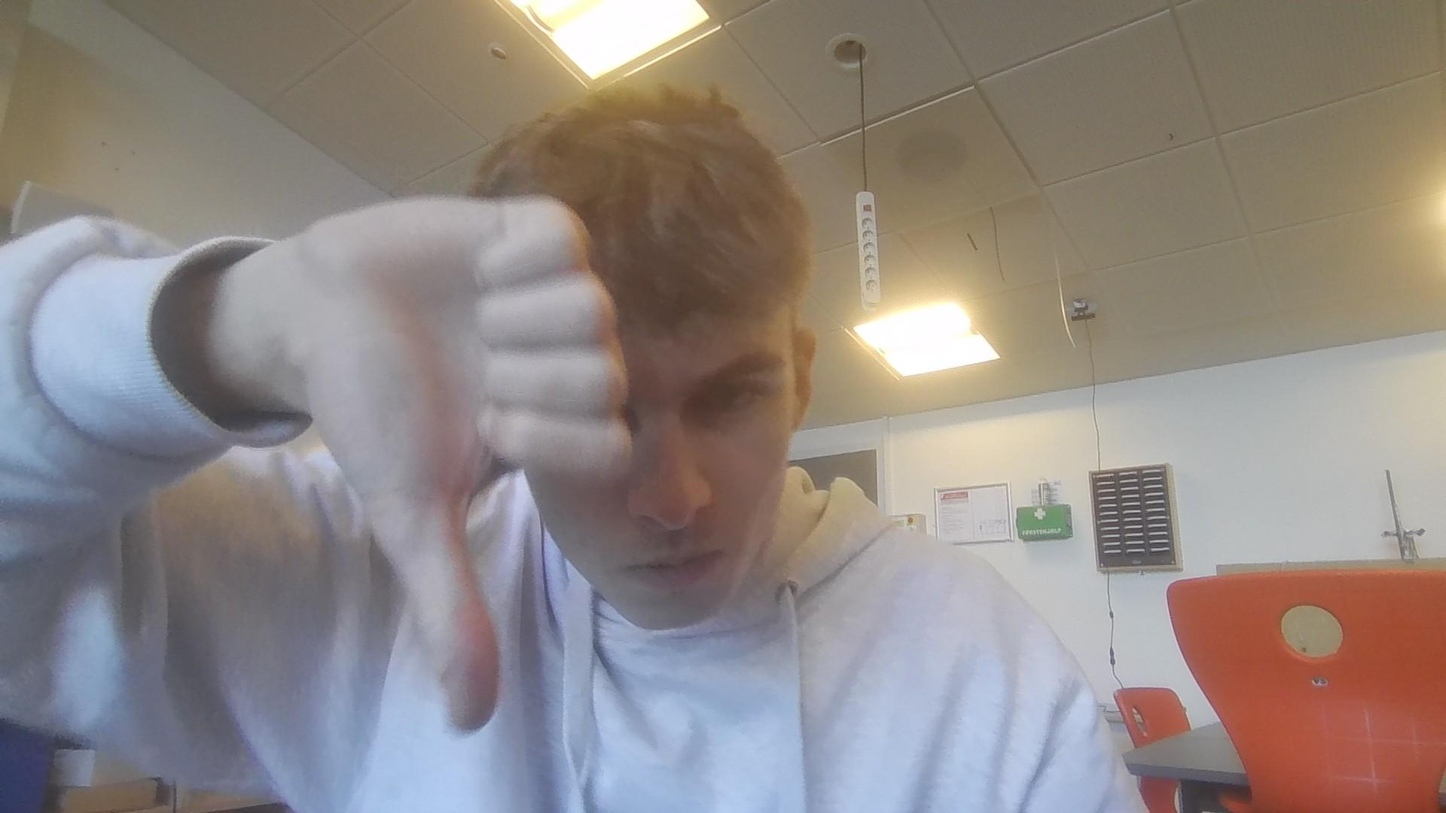thumbs down: (279, 199, 638, 735)
